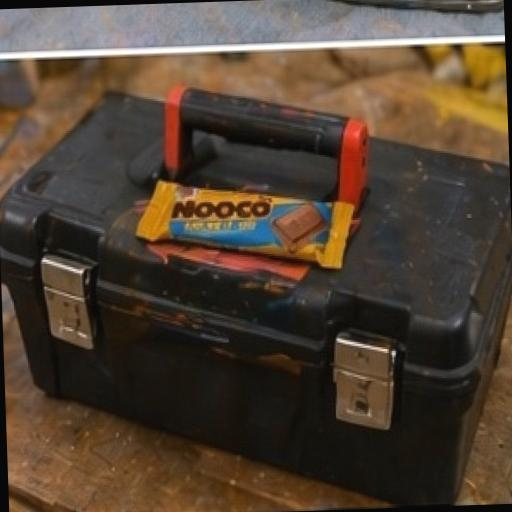biscuit-detection: (132, 131, 386, 308)
